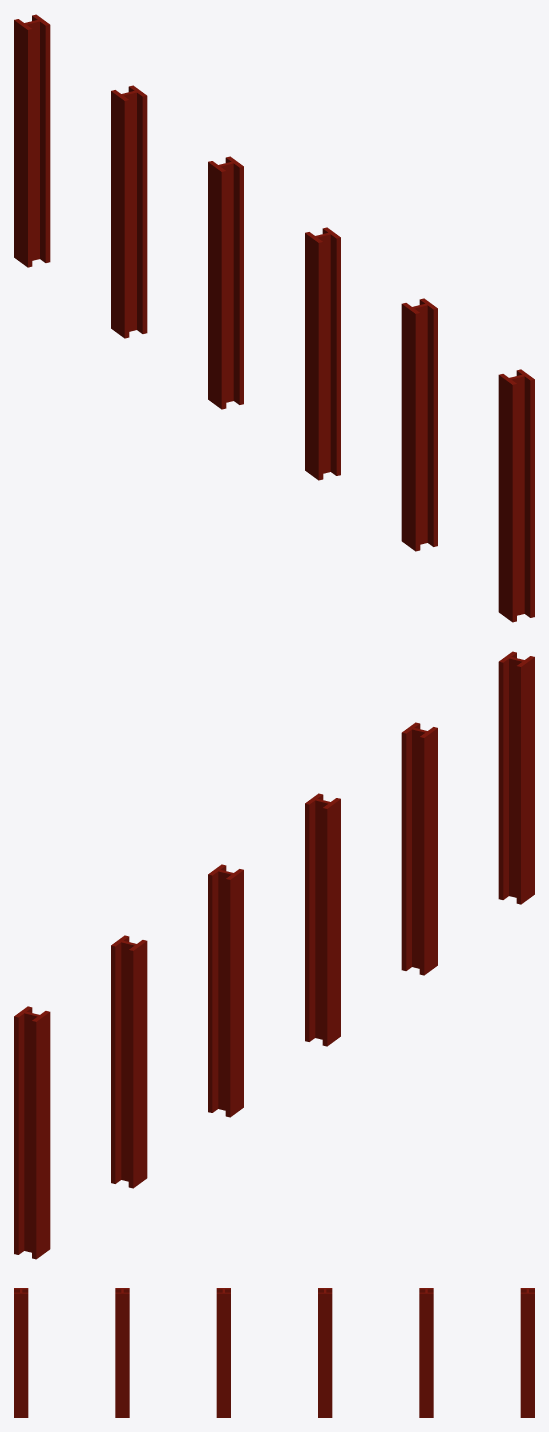
File: I-beam_015.gltf
3 renders of one model, top to bottom at view 1: azimuth 30°, elevation 25°; view 2: azimuth 150°, elevation 25°; view 3: azimuth 270°, elevation 25°, orthographic. The views are drawn at different scales.
Parts seen in each view (by area): view 1: I-beam.015; view 2: I-beam.015; view 3: I-beam.015.
Part boxes in pixels (bbox=[...]): I-beam.015: bbox=[14, 14, 534, 622]; I-beam.015: bbox=[14, 651, 534, 1259]; I-beam.015: bbox=[14, 1288, 534, 1417].
Bounding box in the file's own units: 0.6883 × 6.98 × 26.53.
